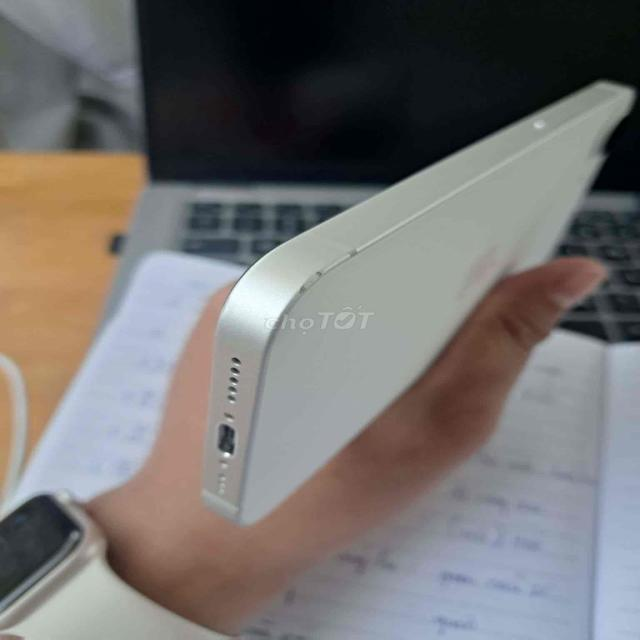scratch: (296, 268, 334, 302), (333, 247, 378, 268)
